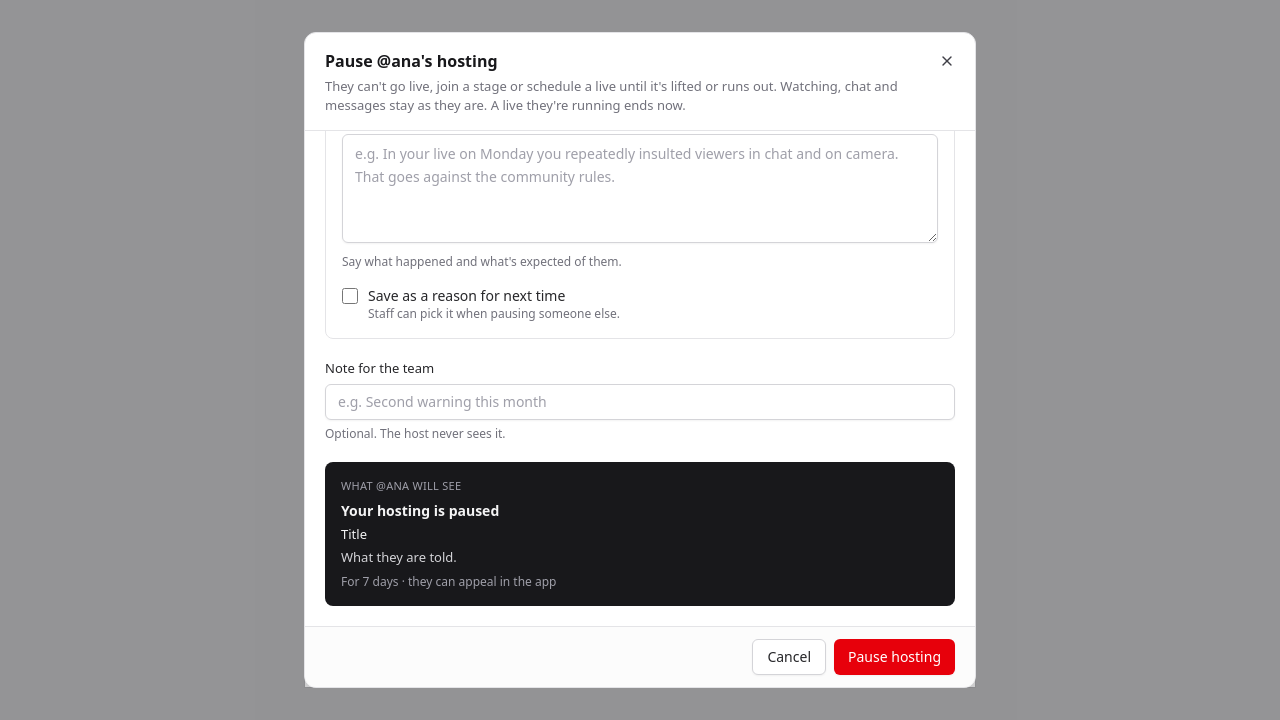
Test case: pausing a host › names an untitled live after its host, and needs words before pausing
The image size is (1280, 720).
(page scrolled)
Click the button "Pause hosting": [894, 657] box 834,639 -> 955,675
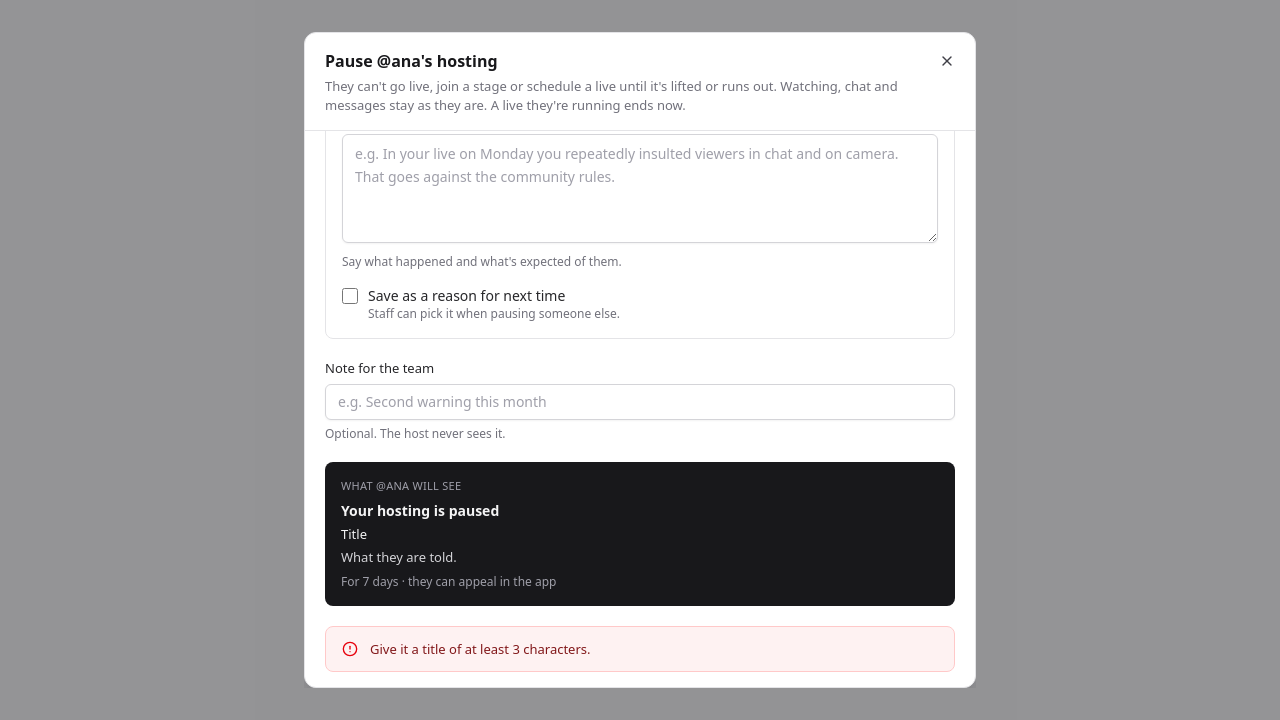
Now the text "Give it a title of at least 3 characters." is shown, box 370,640 -> 590,658
